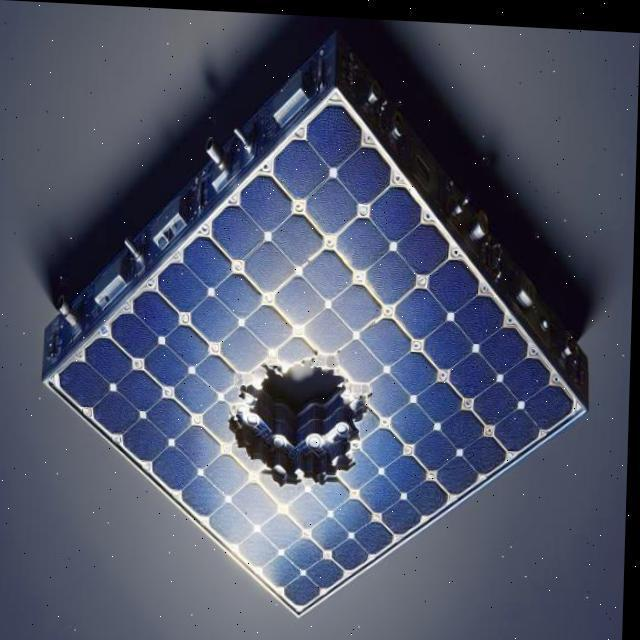Anomaly Solar Panel: (45, 90, 592, 617)
Structural Damage: (202, 321, 397, 515)
